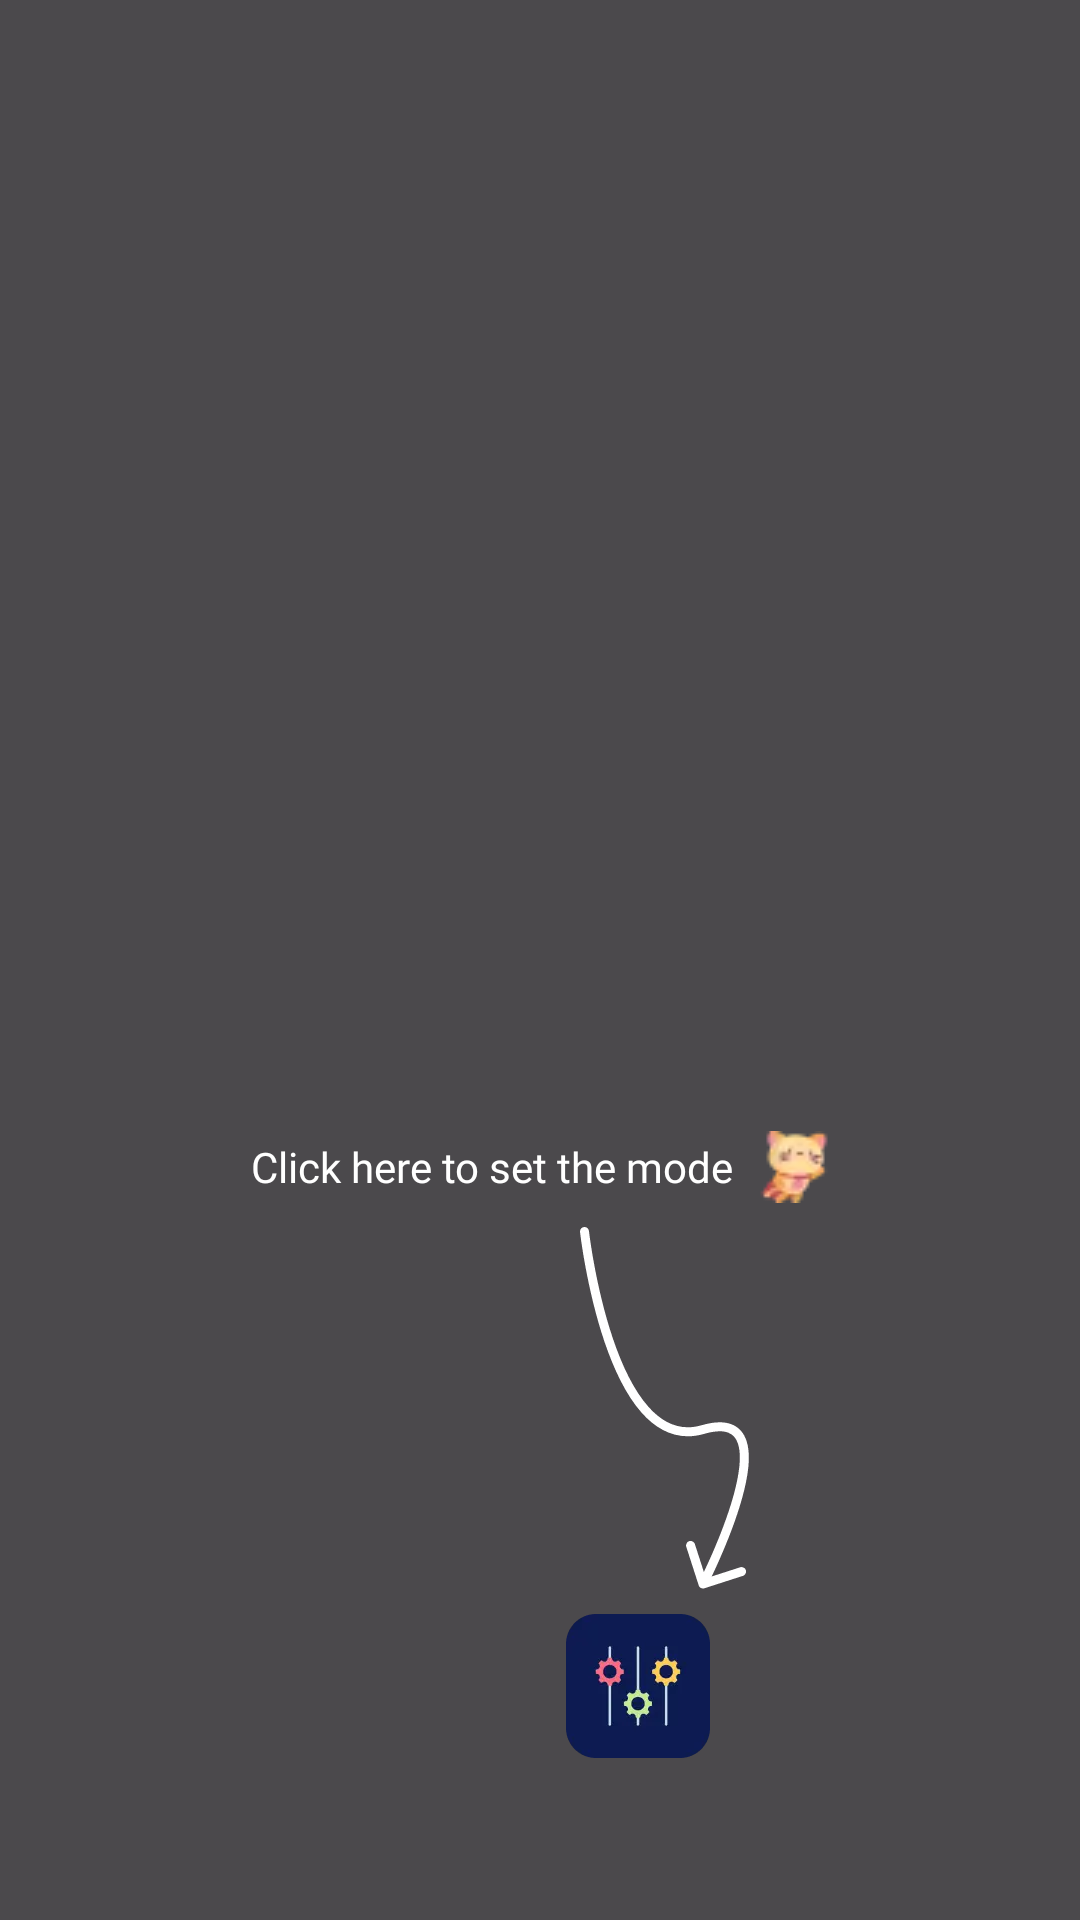

Icon bounding boxes for this 1080x1920 phone screenshot, format (x1, y1, x2, y2):
setting: (566, 1614, 710, 1758)
